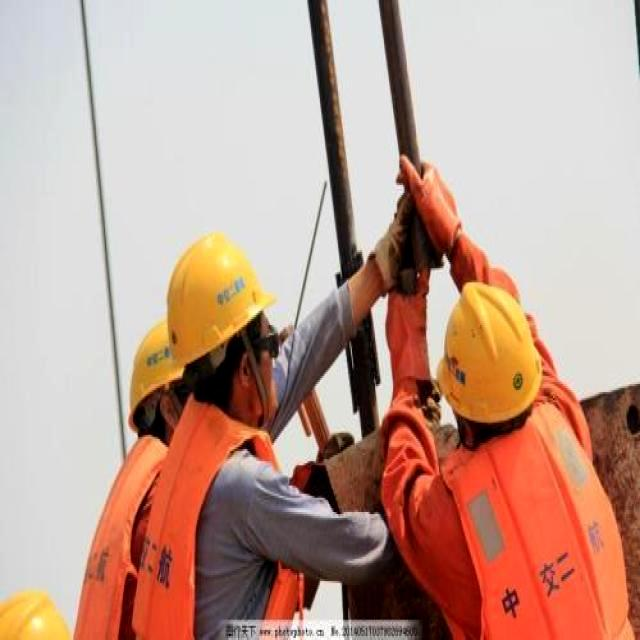hard_hat: (438, 282, 558, 425), (168, 232, 275, 366), (128, 315, 183, 412)
person: (131, 188, 410, 639), (385, 149, 635, 640), (74, 319, 182, 638)
